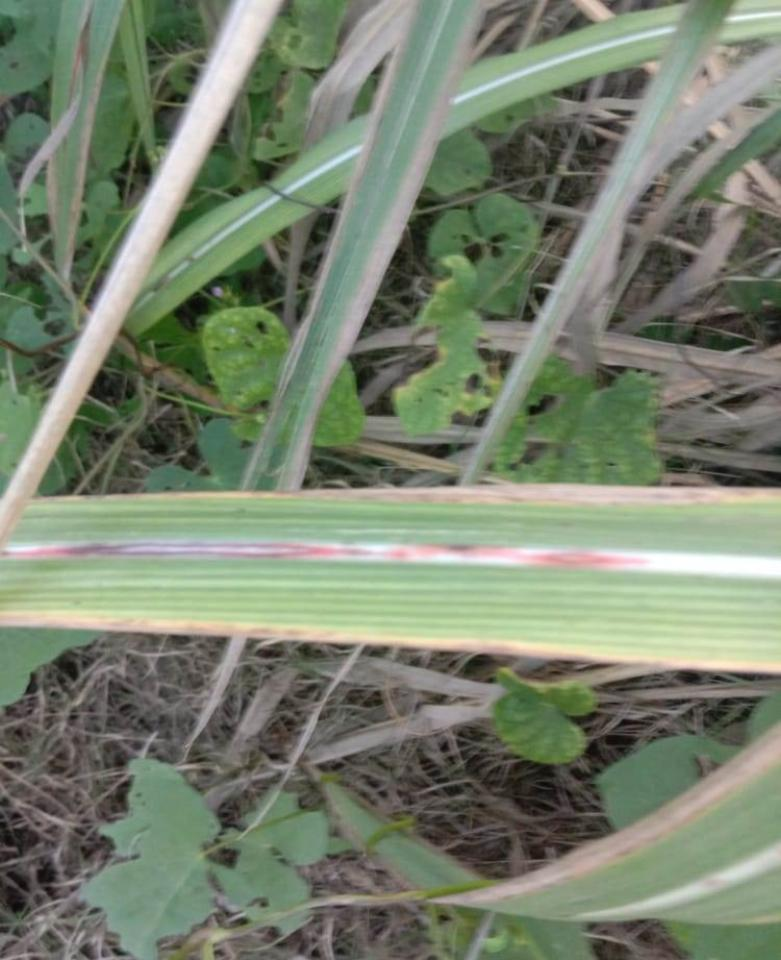RedRot: (0, 543, 651, 568)
Yellow: (0, 612, 781, 674), (31, 485, 781, 505)
